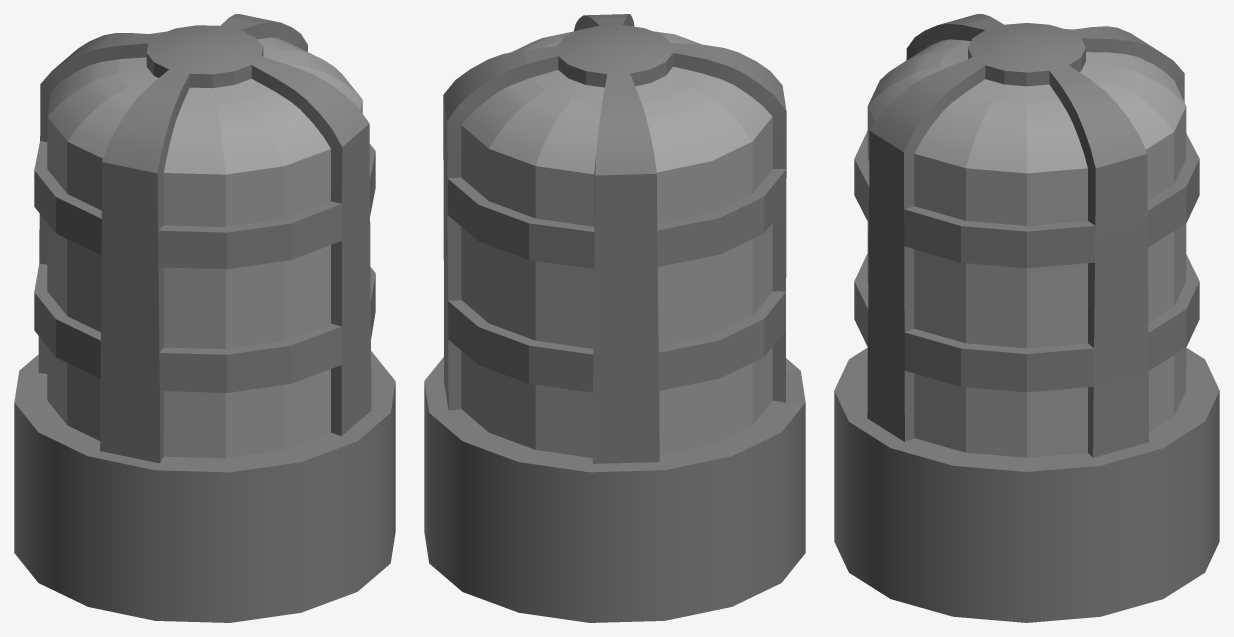
The model's file is SewerLight.fbx.
3 renders of one model, left to right at view 1: azimuth 30°, elevation 25°; view 2: azimuth 150°, elevation 25°; view 3: azimuth 270°, elevation 25°, orthographic.
Parts seen in each view (by area): view 1: SewerLight; view 2: SewerLight; view 3: SewerLight.
Boxes of the visible parts, x1=… form: SewerLight: x1=14, y1=14, x2=395, y2=622; SewerLight: x1=424, y1=14, x2=805, y2=622; SewerLight: x1=834, y1=14, x2=1219, y2=622.
Size of the model in its own units: 0.6762 by 0.968 by 0.6762.
Materials: 2 (1 with a texture image).
